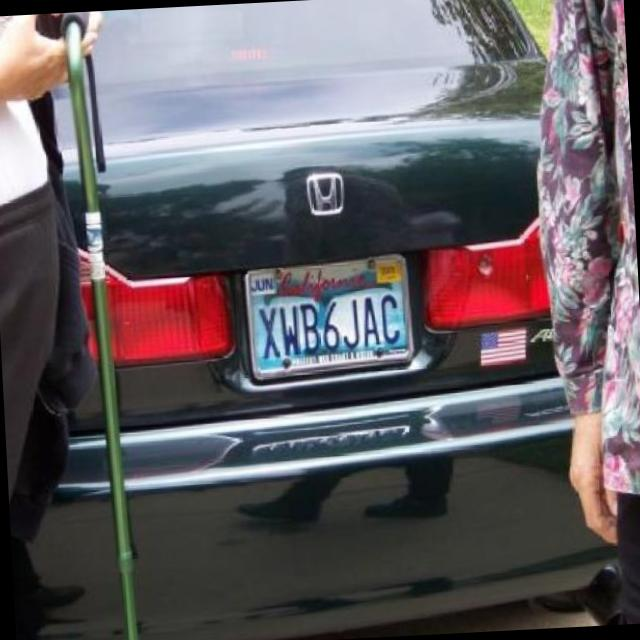LicensePlate: (244, 261, 415, 374)
